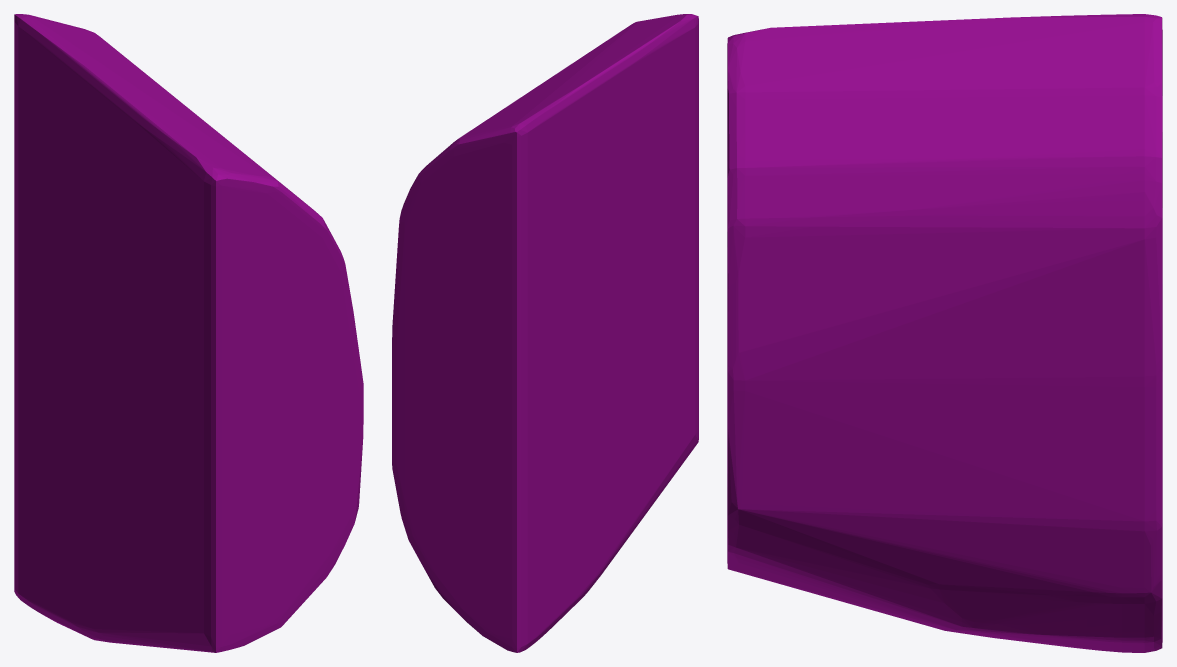
Rendered from right_f_middle_part_14.obj.
3 renders of one model, left to right at view 1: azimuth 30°, elevation 25°; view 2: azimuth 150°, elevation 25°; view 3: azimuth 270°, elevation 25°, orthographic. The views are drawn at different scales.
Size of the model in its own units: 4.51 by 16.38 by 10.28.
